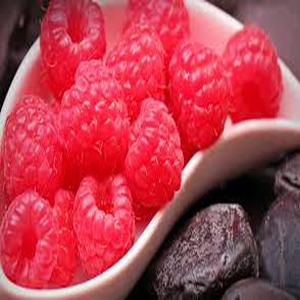raspb: (33, 40, 185, 214)
